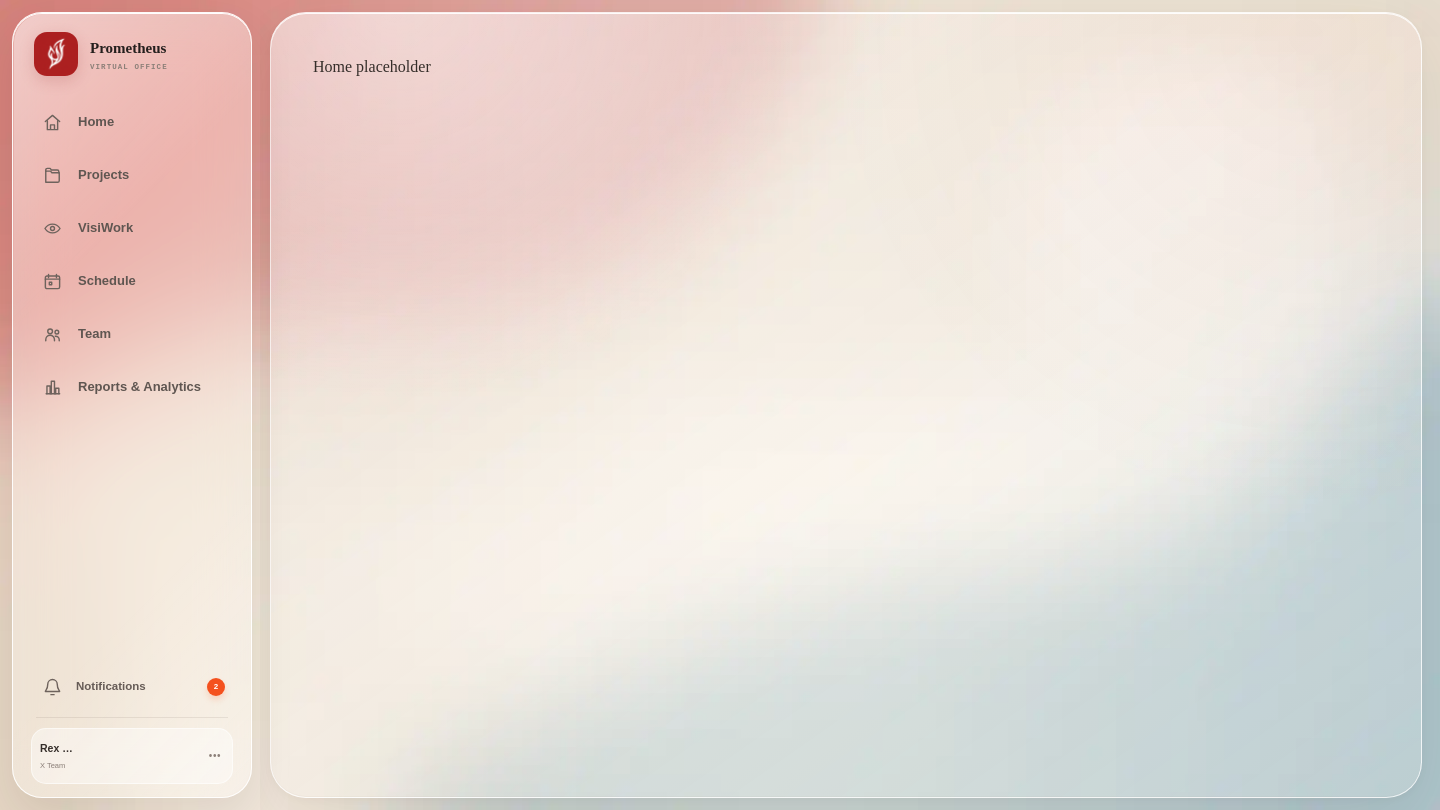
Test case: AppShell notification utility badge › hides the badge after Mark all as read without duplicating navigation
The image size is (1440, 810).
Click the link with aria-label "Notifications, 2 unread" at coordinates (134, 687), box [43,678,225,696]
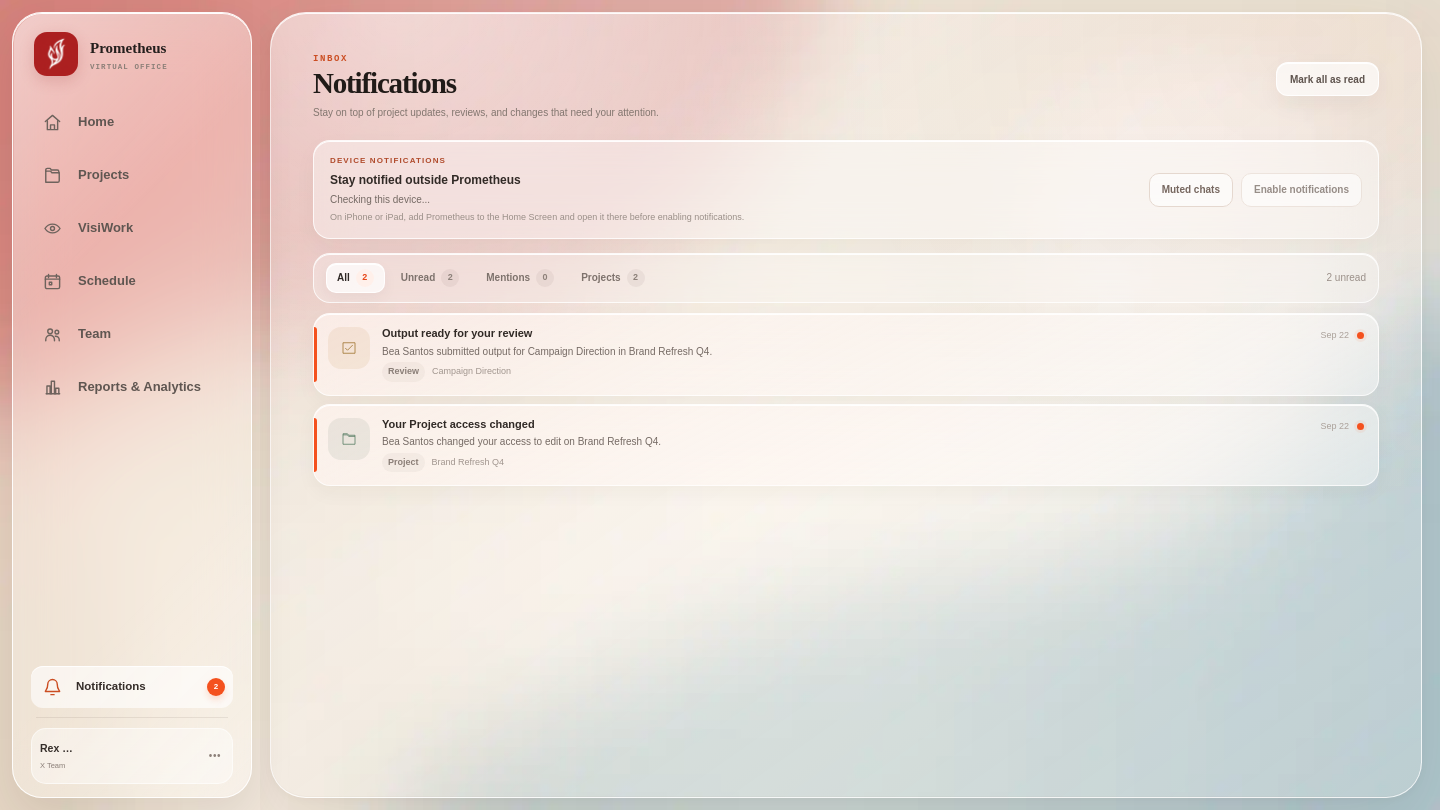
Result: the button "Output ready for your review" is shown at [313,313,1379,396]
Click the button "Mark all as read" at coordinates (1328, 79), box [1276,62,1379,96]
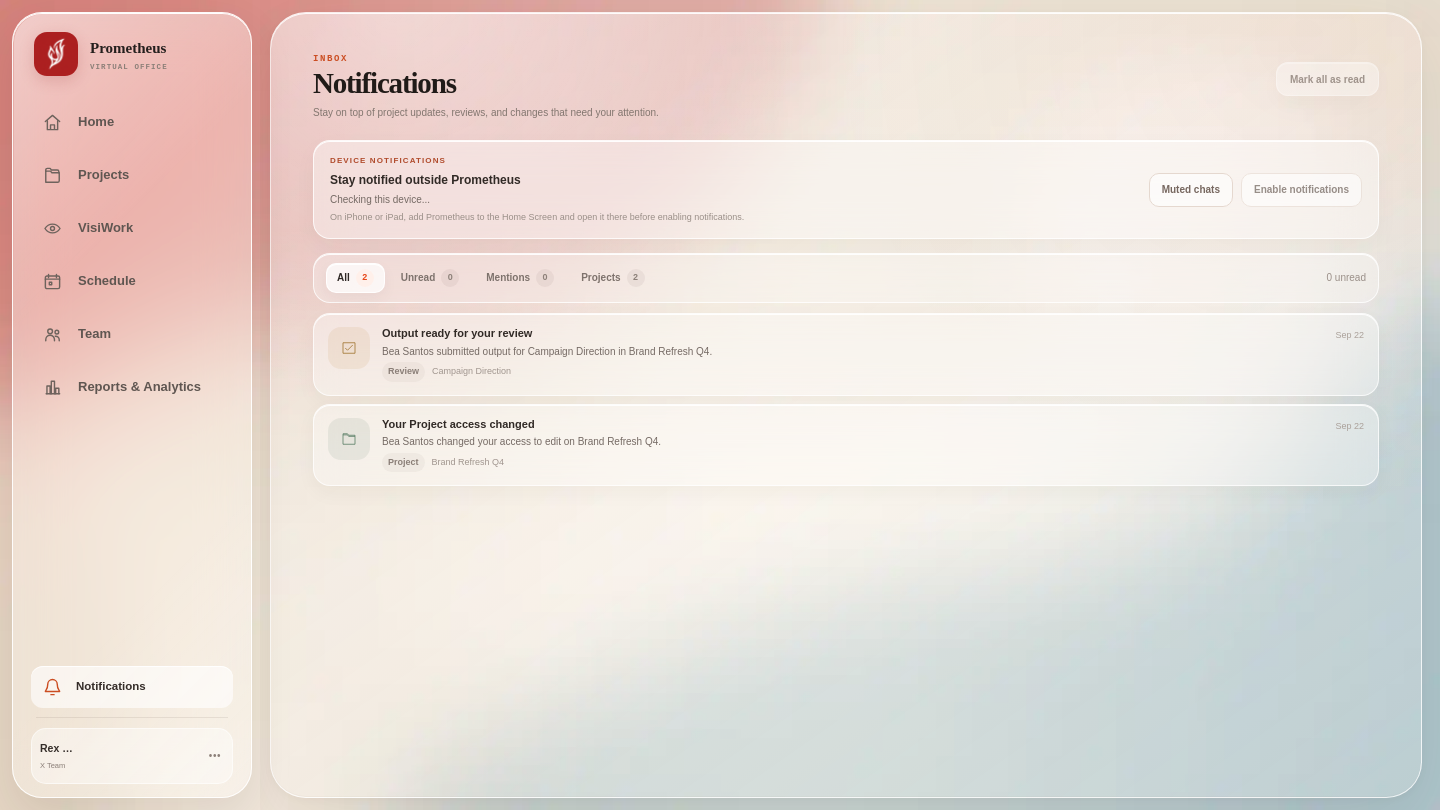
Expected: the number of links "Notifications" is 1, [31,666,233,708]
Result: the text "0 unread" is shown at [1326,270,1366,285]
